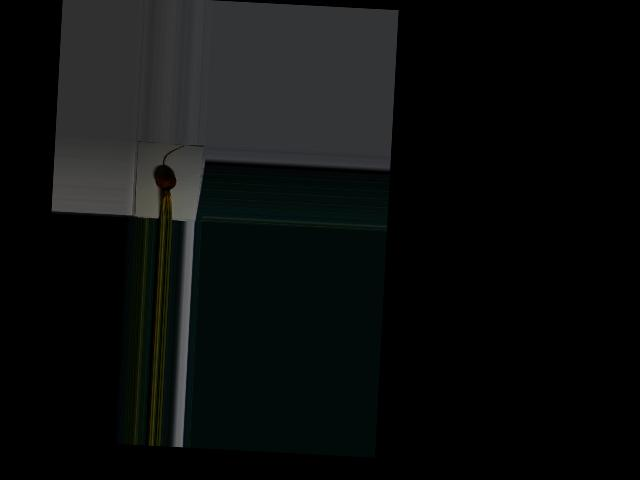beet: (153, 144, 183, 220)
